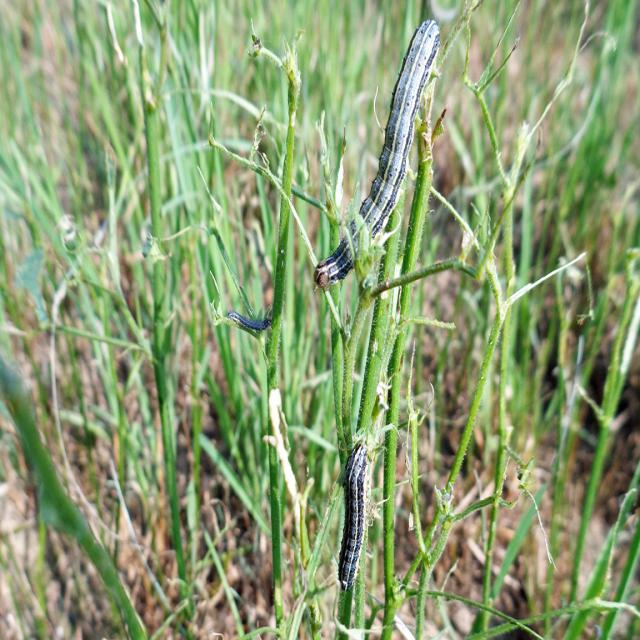Fall-Armyworm: (310, 9, 441, 299), (334, 432, 376, 599)
